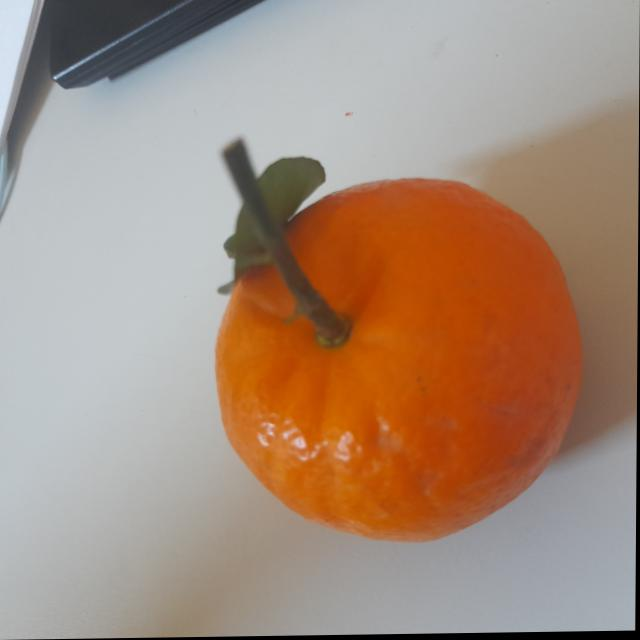Cam: (186, 63, 600, 597)
